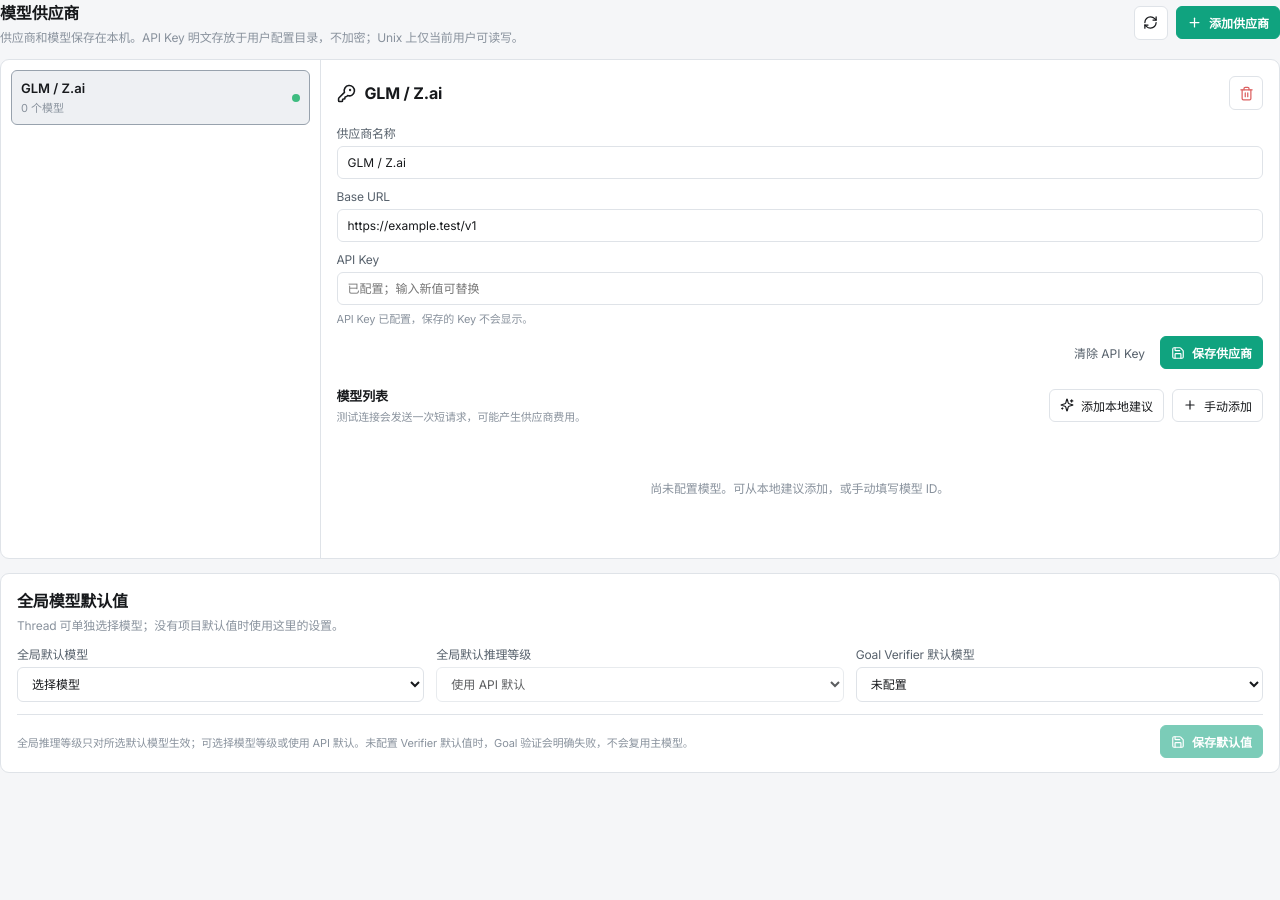
Test: ModelSettingsPanel smart matching › matches GLM Flash against the Responses API model and reasoning settings
Click the button "手动添加" at (1218,405), box [1172, 388, 1263, 422]
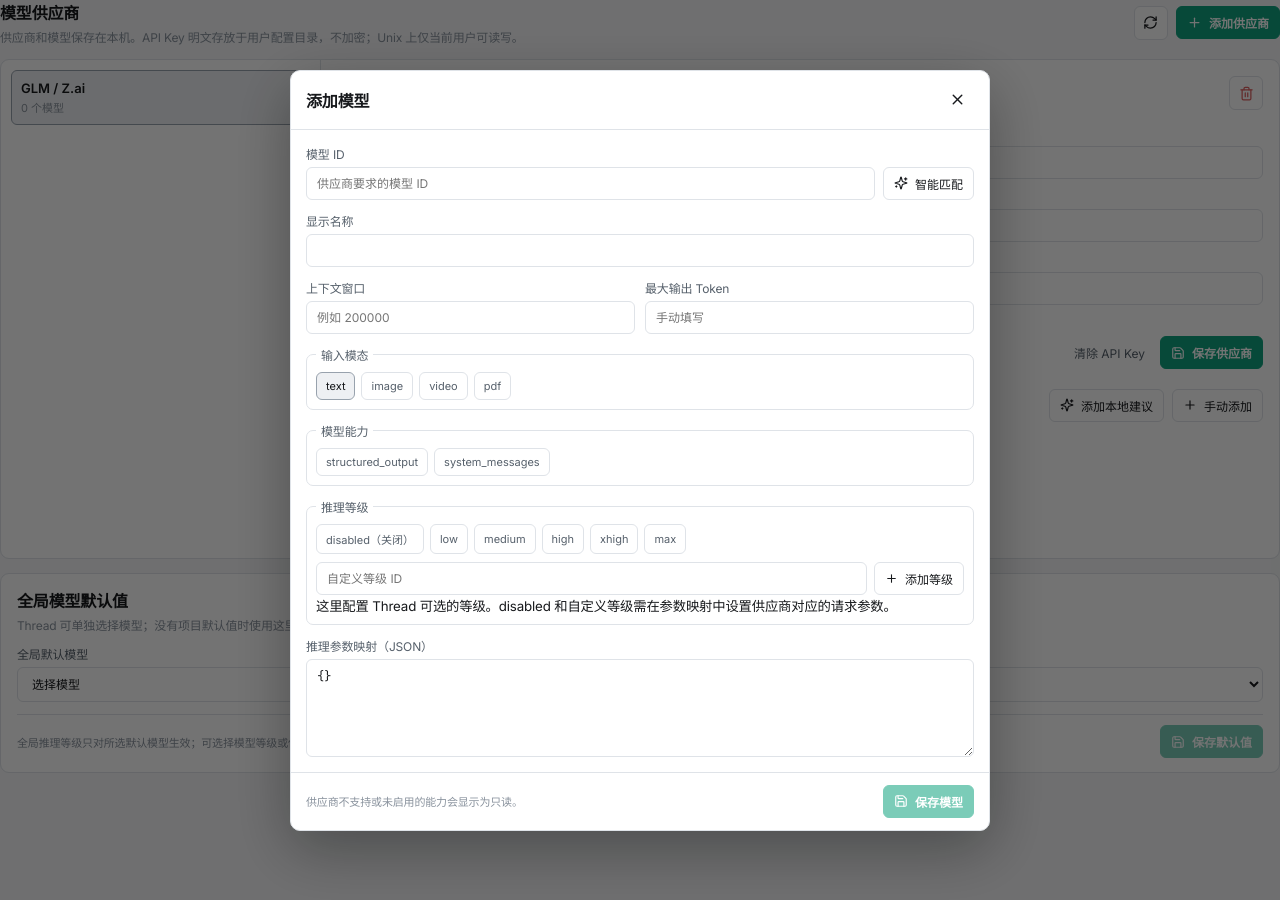
Type "glm-5.3-flash" into the field with placeholder "供应商要求的模型 ID" at (590,183), box [306, 166, 875, 200]
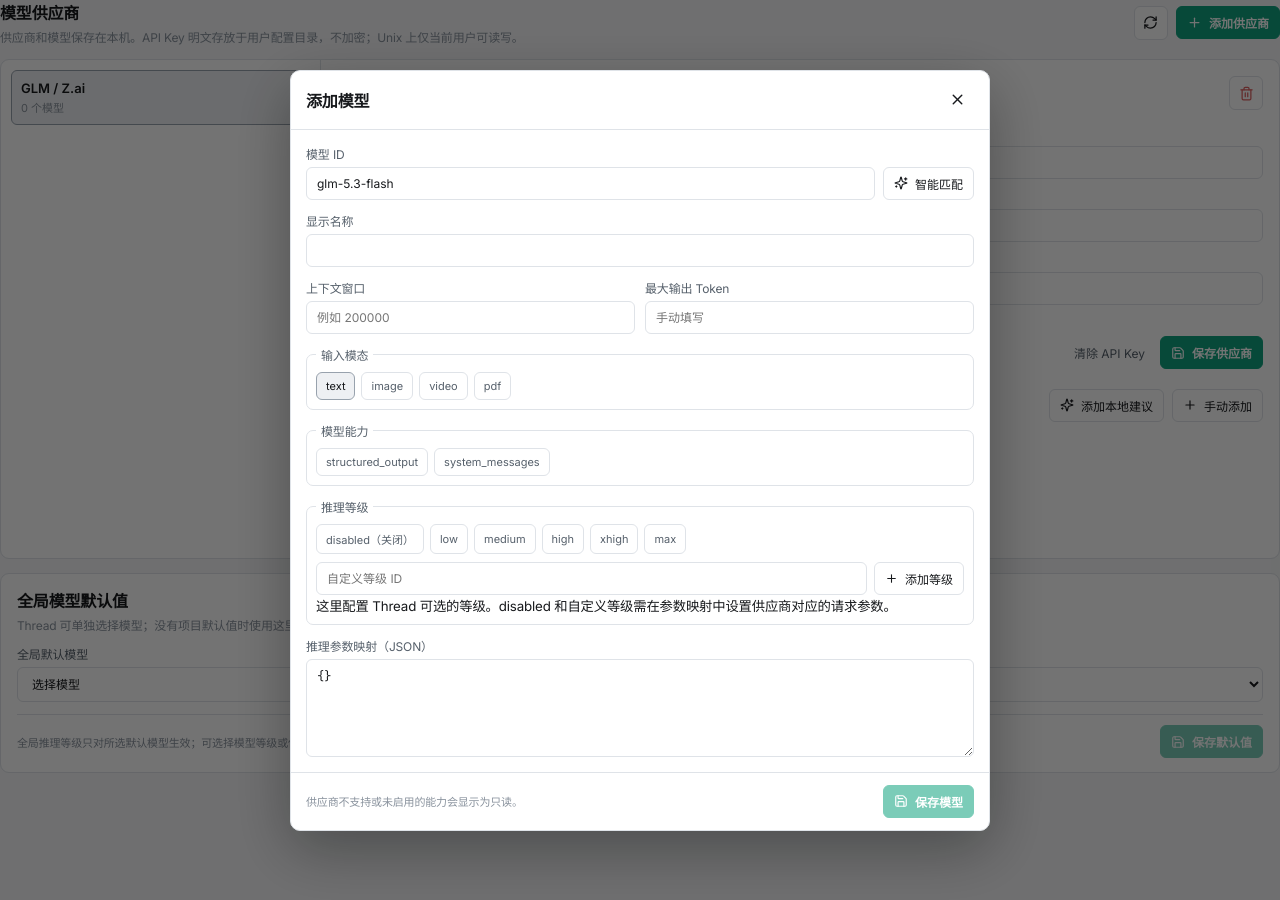
Click the button "智能匹配" at (928,183), box [883, 166, 974, 200]
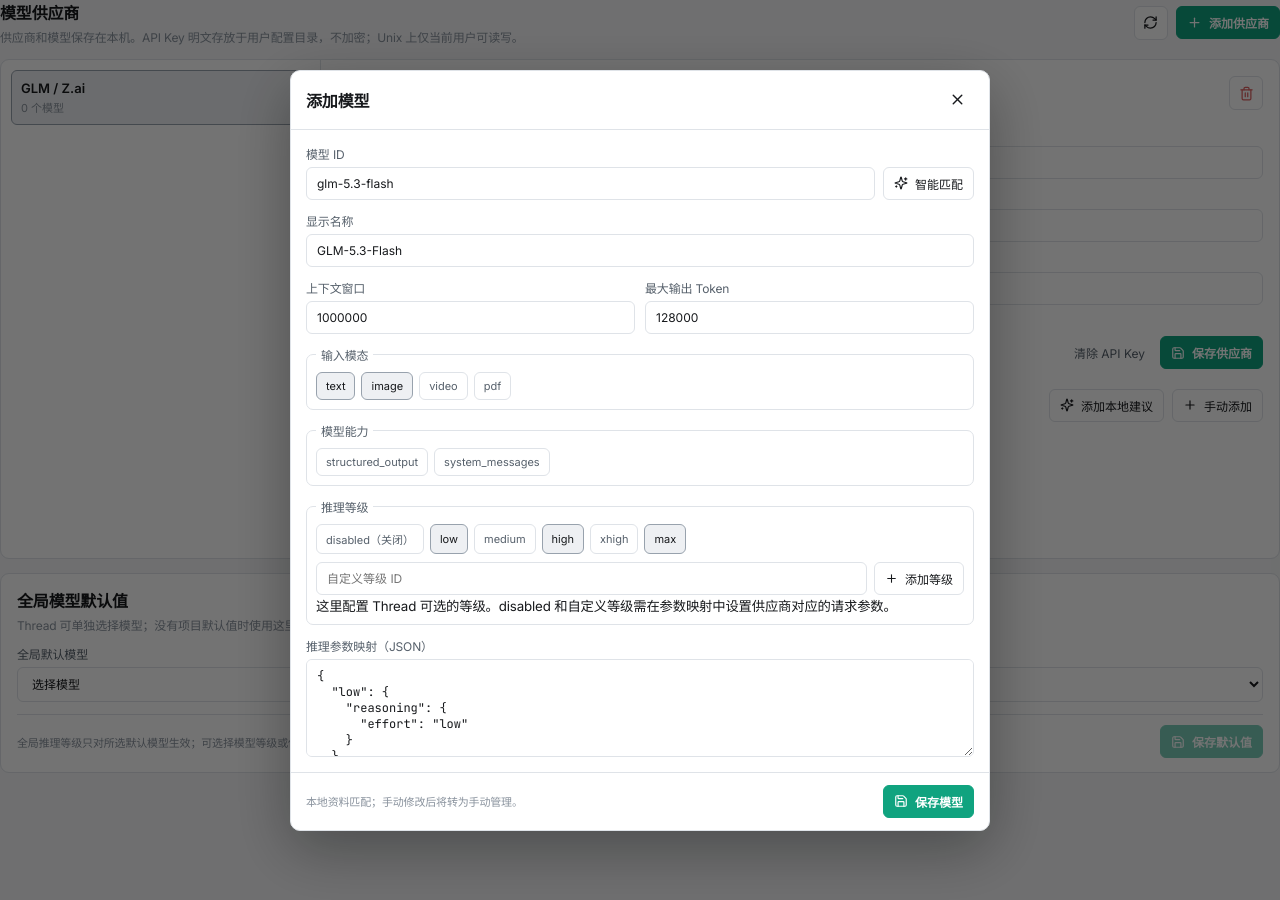
Expected: the field labelled "显示名称" holds "GLM-5.3-Flash", [306, 234, 974, 266]
Expected: the number field labelled "上下文窗口" holds "1000000", [306, 300, 635, 334]
Expected: the number field labelled "最大输出 Token" holds "128000", [645, 300, 974, 334]
